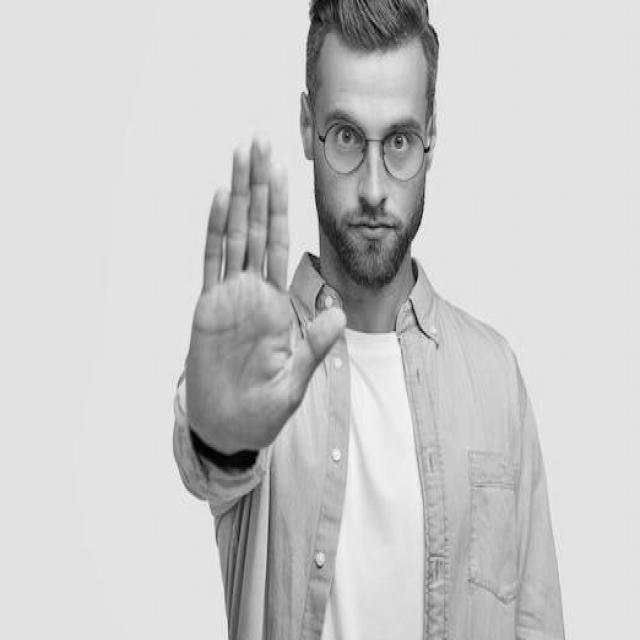stop: (179, 126, 352, 463)
